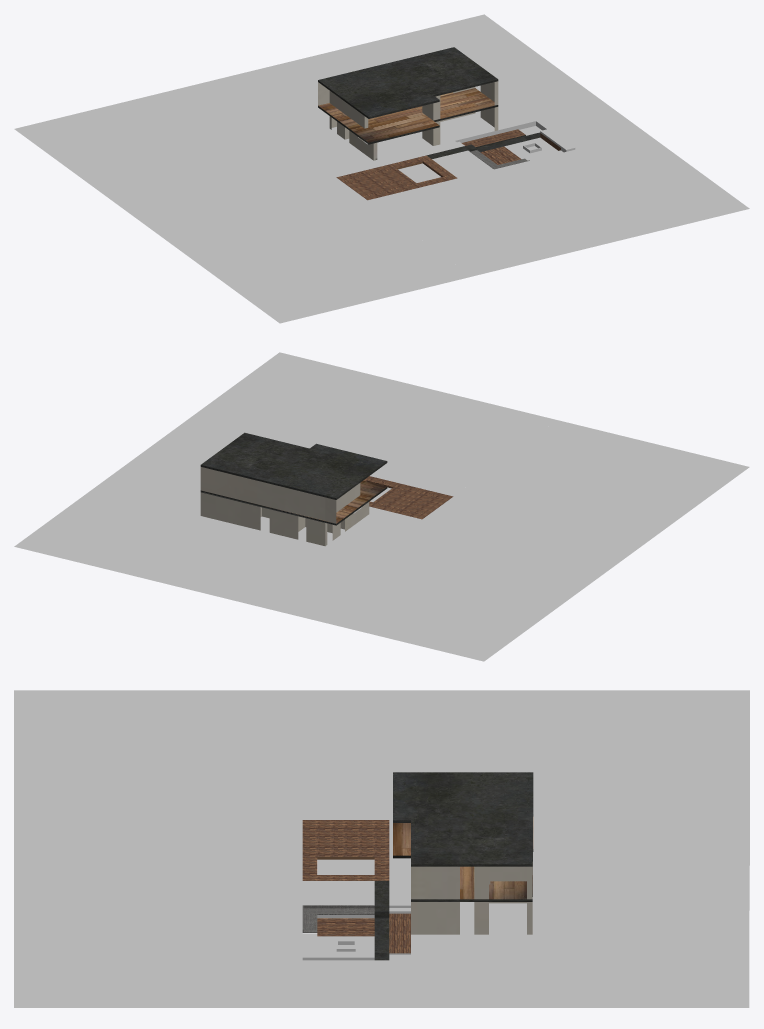
File: villaF1.obj
3 views of the same model, one above another, from view 1: azimuth 30°, elevation 25°; view 2: azimuth 150°, elevation 25°; view 3: azimuth 270°, elevation 25° (orthographic). The views are drawn at different scales.
Parts seen in each view (by area): view 1: piso_Plane.001, 3PLANTA_firme_Plane.047, duela_Plane.004, 1PLANTA_duela_Plane.043, piso_casa_Plane.002, piso_gris_Plane.006, 2PLANTA-paredes_Plane.046, 1PLANTA_paredes_Plane, loceta_blanca_Plane.007, pasillo_gris_Plane.005; view 2: piso_Plane.001, 3PLANTA_firme_Plane.047, 2PLANTA-paredes_Plane.046, 1PLANTA_paredes_Plane, duela_Plane.004, piso_casa_Plane.002, 1PLANTA_duela_Plane.043; view 3: piso_Plane.001, 3PLANTA_firme_Plane.047, duela_Plane.004, piso_gris_Plane.006, 2PLANTA-paredes_Plane.046, 1PLANTA_paredes_Plane, 1PLANTA_duela_Plane.043, loceta_blanca_Plane.007, piso_casa_Plane.002, pasillo_gris_Plane.005, Sillones_Plane.008, agua_Plane.003.
Boxes of the visible parts, left/top/right/bottom form: piso_Plane.001: left=14, top=14, right=749, bottom=323; 3PLANTA_firme_Plane.047: left=318, top=47, right=497, bottom=116; duela_Plane.004: left=336, top=129, right=560, bottom=200; 1PLANTA_duela_Plane.043: left=318, top=88, right=494, bottom=142; piso_casa_Plane.002: left=318, top=113, right=546, bottom=163; piso_gris_Plane.006: left=329, top=126, right=575, bottom=177; 2PLANTA-paredes_Plane.046: left=318, top=81, right=498, bottom=128; 1PLANTA_paredes_Plane: left=329, top=107, right=498, bottom=160; loceta_blanca_Plane.007: left=432, top=150, right=493, bottom=178; pasillo_gris_Plane.005: left=427, top=132, right=540, bottom=158; piso_Plane.001: left=14, top=352, right=749, bottom=661; 3PLANTA_firme_Plane.047: left=201, top=432, right=386, bottom=498; 2PLANTA-paredes_Plane.046: left=200, top=467, right=360, bottom=523; 1PLANTA_paredes_Plane: left=200, top=492, right=369, bottom=546; duela_Plane.004: left=363, top=476, right=453, bottom=519; piso_casa_Plane.002: left=254, top=511, right=379, bottom=549; 1PLANTA_duela_Plane.043: left=266, top=480, right=386, bottom=523; piso_Plane.001: left=14, top=690, right=749, bottom=1007; 3PLANTA_firme_Plane.047: left=393, top=772, right=533, bottom=864; duela_Plane.004: left=302, top=820, right=410, bottom=953; piso_gris_Plane.006: left=302, top=820, right=410, bottom=960; 2PLANTA-paredes_Plane.046: left=411, top=862, right=532, bottom=899; 1PLANTA_paredes_Plane: left=411, top=902, right=532, bottom=934; 1PLANTA_duela_Plane.043: left=393, top=817, right=533, bottom=899; loceta_blanca_Plane.007: left=302, top=881, right=374, bottom=905; piso_casa_Plane.002: left=460, top=852, right=533, bottom=934; pasillo_gris_Plane.005: left=374, top=881, right=389, bottom=960; Sillones_Plane.008: left=302, top=905, right=374, bottom=932; agua_Plane.003: left=317, top=859, right=374, bottom=874.
Bounding box in the file's own units: 52.06 × 5.9 × 50.99.
